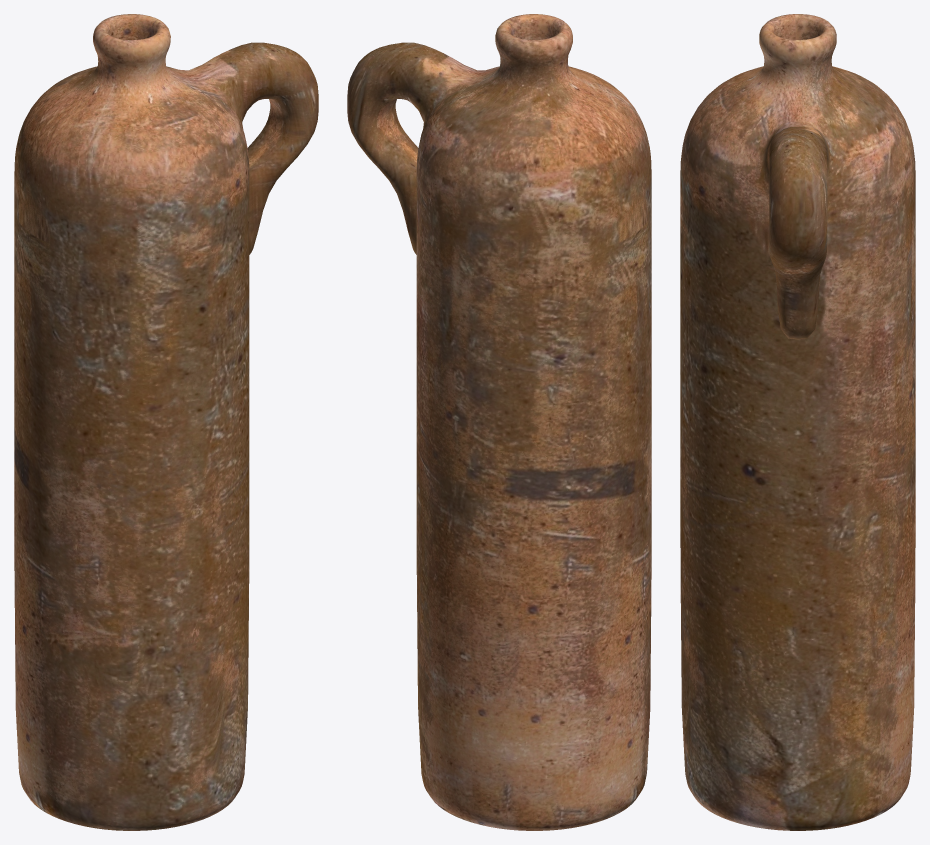
The model's file is garrafa.glb.
3 views of the same model, side by side, from view 1: azimuth 30°, elevation 25°; view 2: azimuth 150°, elevation 25°; view 3: azimuth 270°, elevation 25° (orthographic).
Visible parts, largest first — view 1: Garrafa_TEX; view 2: Garrafa_TEX; view 3: Garrafa_TEX.
Part boxes in pixels (x1=…): Garrafa_TEX: x1=14, y1=14, x2=318, y2=830; Garrafa_TEX: x1=347, y1=14, x2=651, y2=830; Garrafa_TEX: x1=680, y1=14, x2=915, y2=830.
Size of the model in its own units: 0.1215 by 0.3124 by 0.0875.
1 material, 1 textured.
